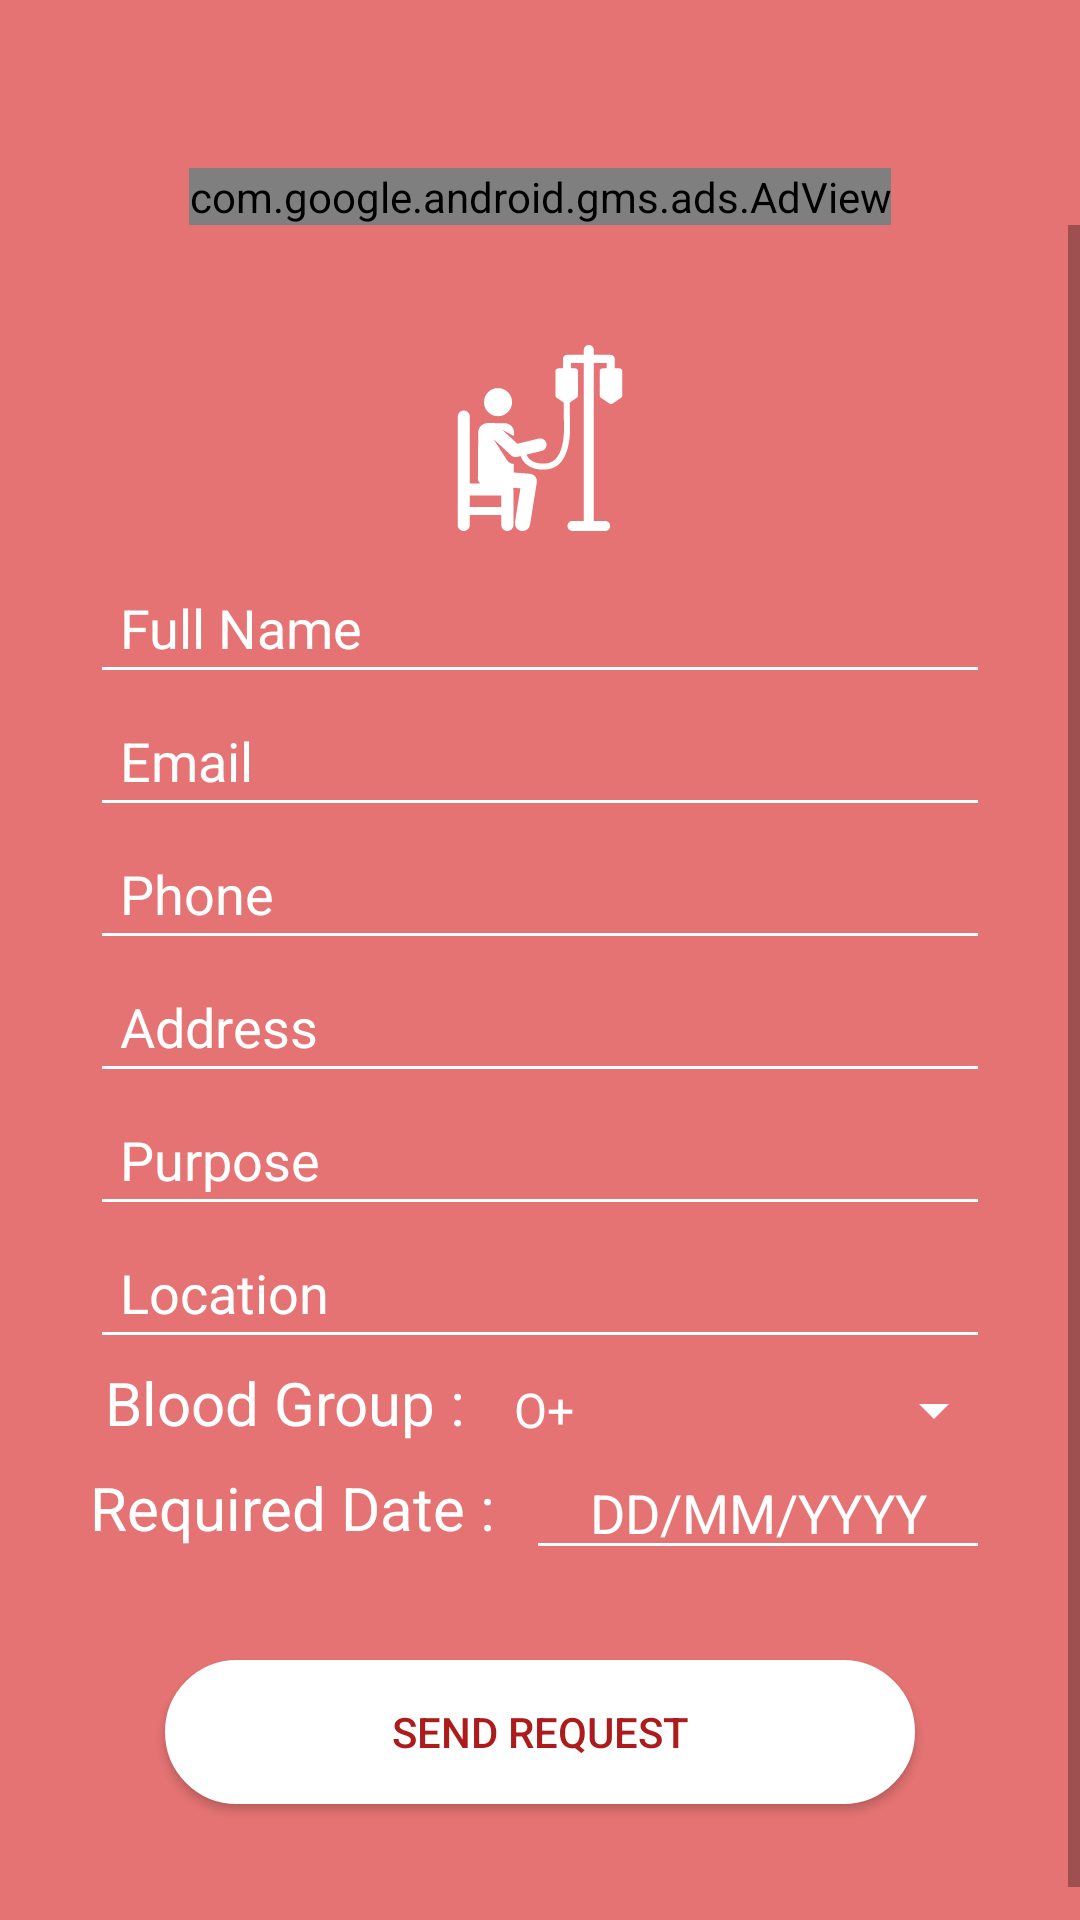

Screen size 1080×1920. Icon name, then its box in pixels as [x1=x1, y1=y1, x2=x2, y2=y2]:
emerg: [x1=457, y1=345, x2=623, y2=531]
